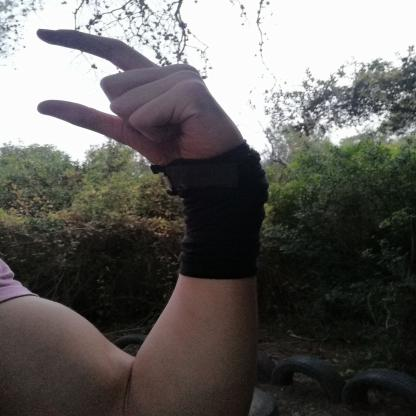DELL: (14, 18, 266, 182)
